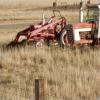Tractor: (14, 13, 100, 63)
